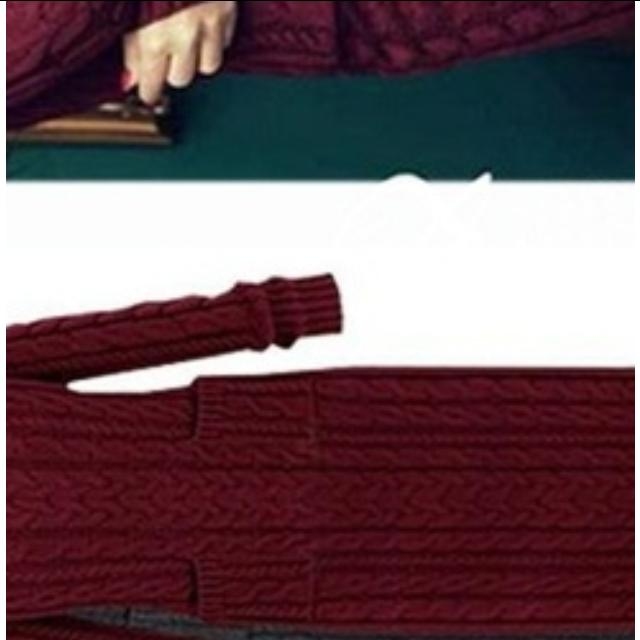wool: (6, 0, 634, 172)
